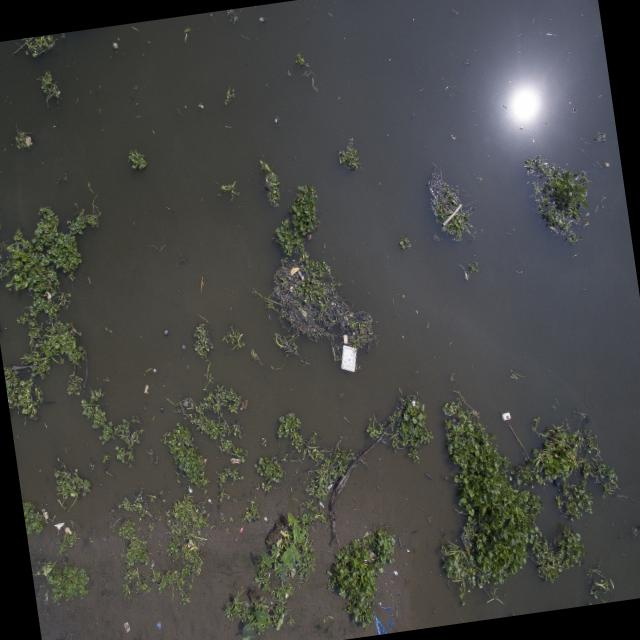Plastic: (338, 344, 361, 374), (54, 522, 72, 536), (501, 412, 514, 422), (229, 456, 242, 466), (342, 334, 350, 344)
